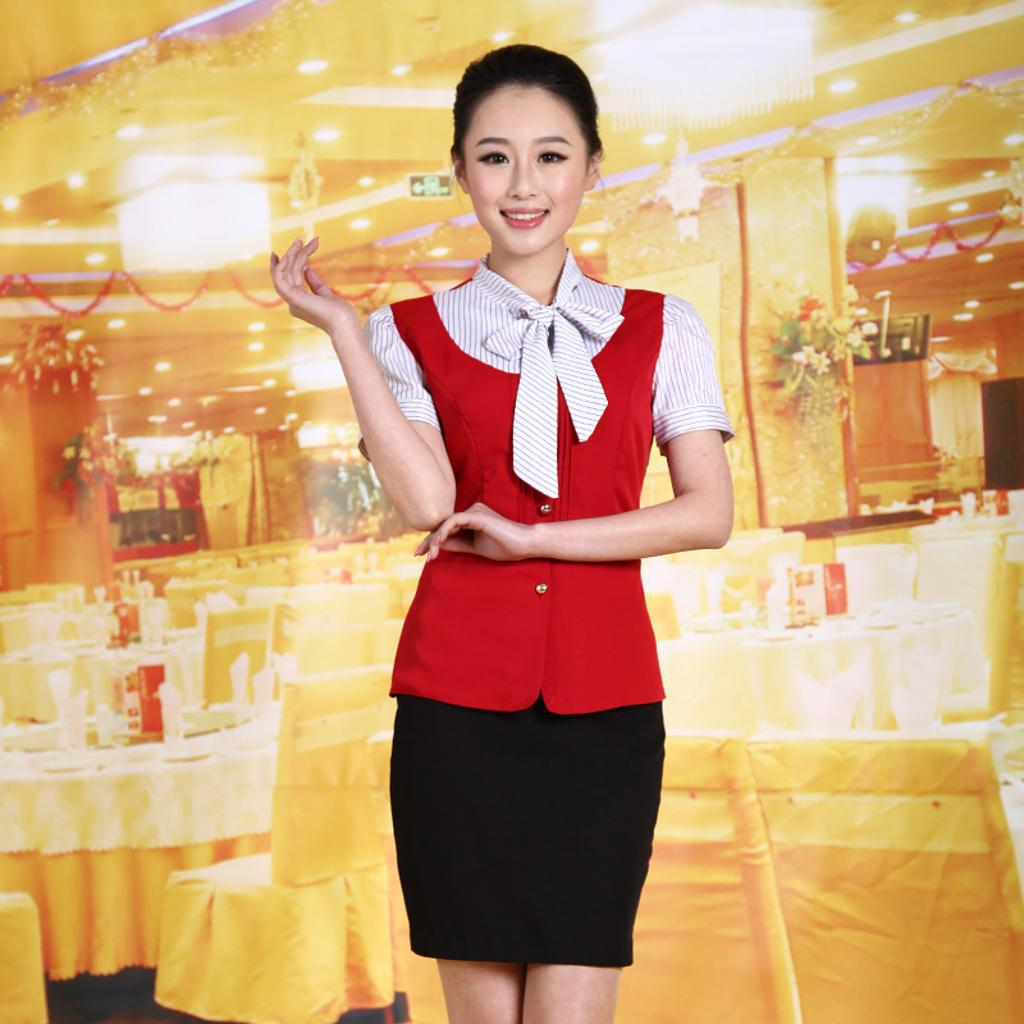face: (465, 81, 587, 257)
